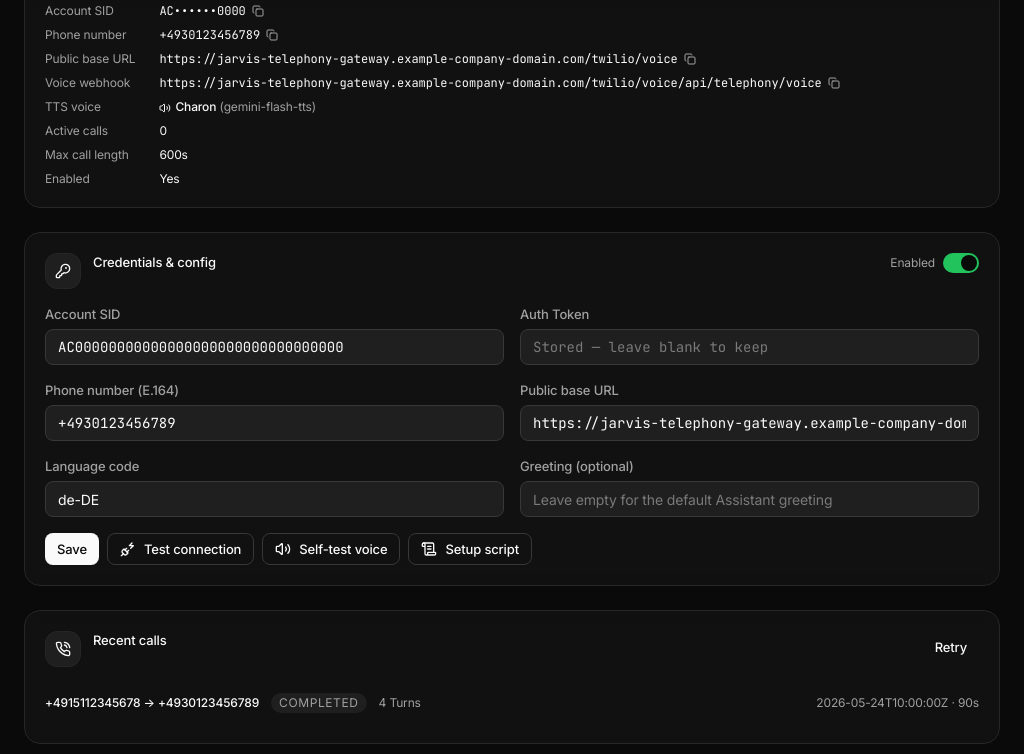
Test: TelephonyView — self-test voice › renders the returned transcript and response_text without clipping
(page scrolled)
Expected: the text with test id "status-tts-voice" reads "Charon", x1=175 y1=99 x2=216 y2=114
Click the button "Self-test voice" at coordinates (331, 549), box x1=262 y1=533 x2=400 y2=565
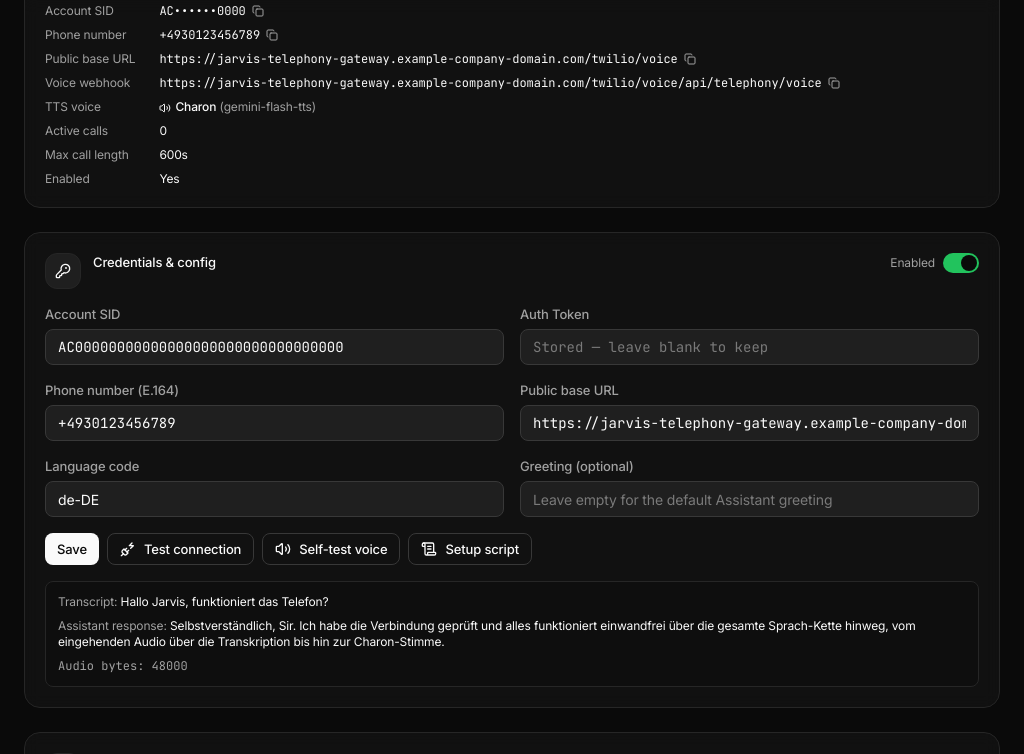
Now the text with test id "selftest-transcript" reads "Hallo Jarvis, funktioniert das Telefon?", box x1=121 y1=594 x2=329 y2=609
